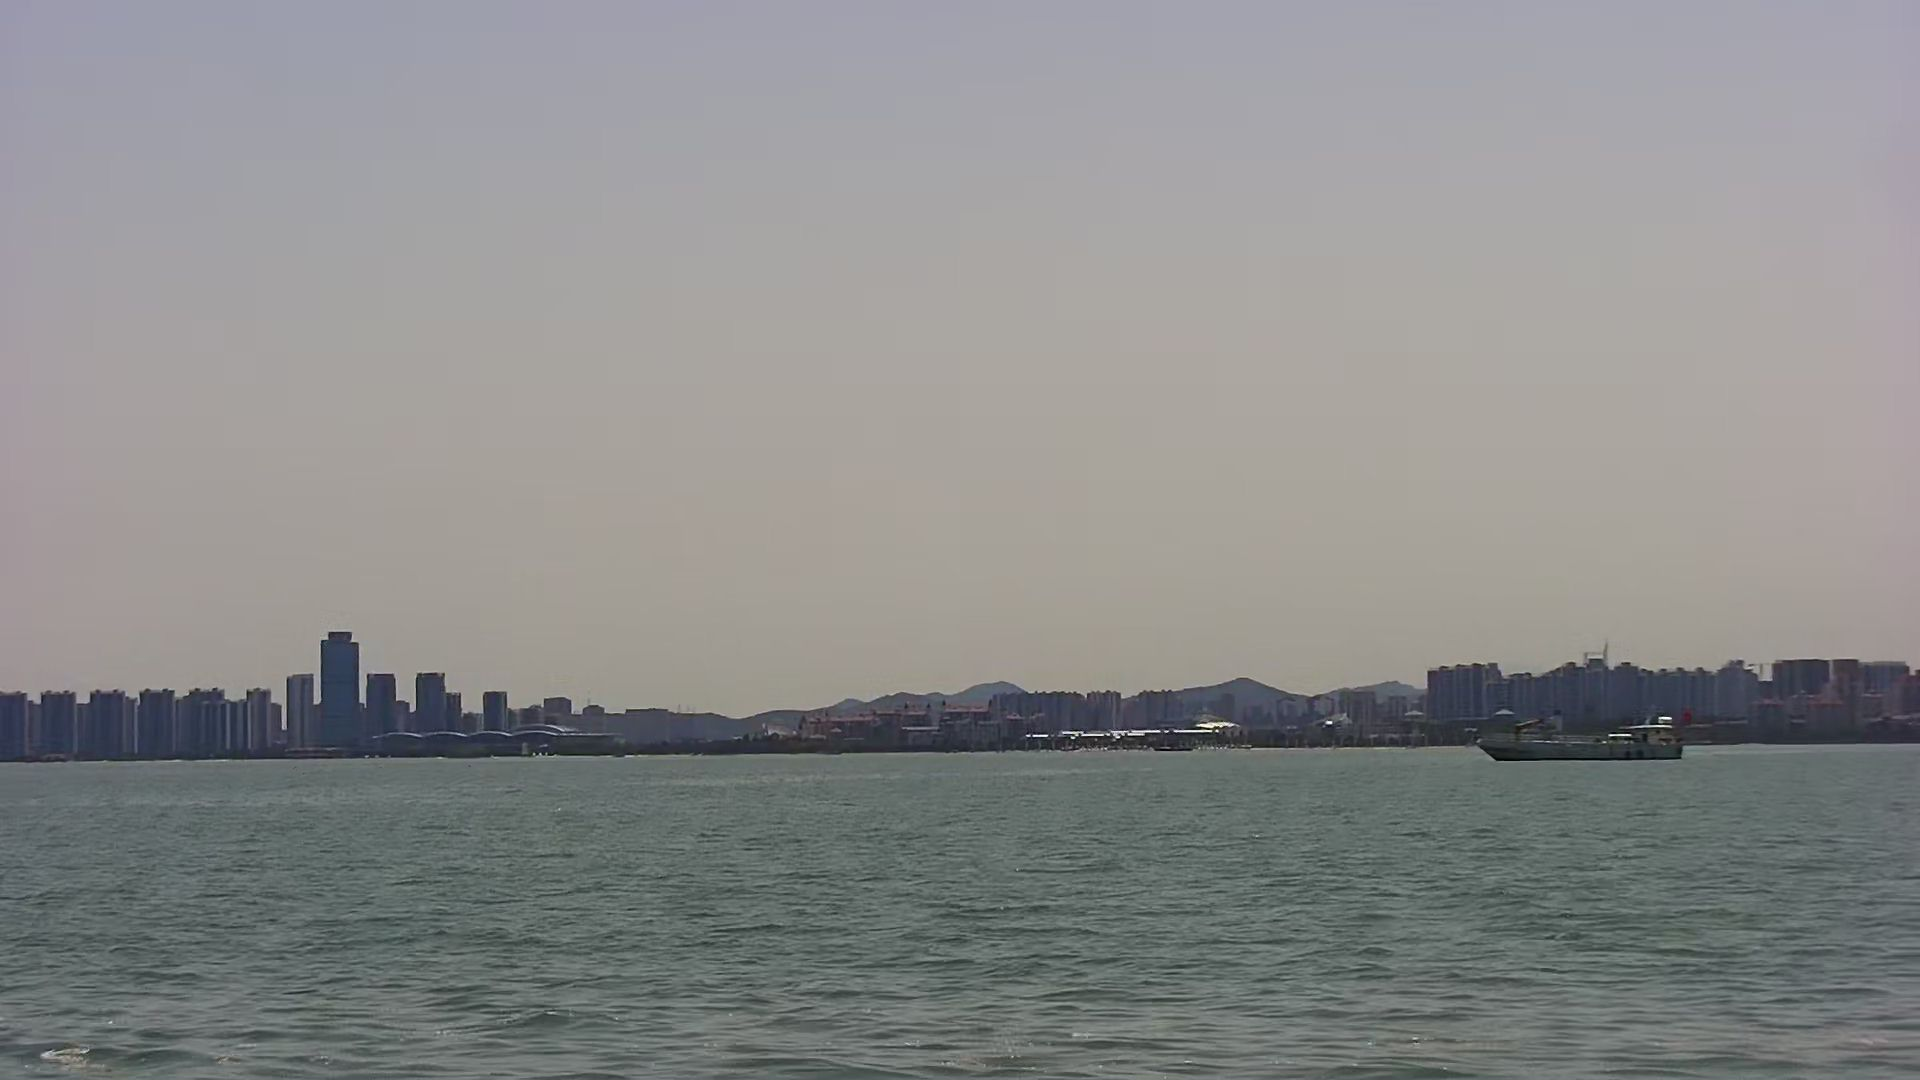ship: (1474, 711, 1688, 770)
